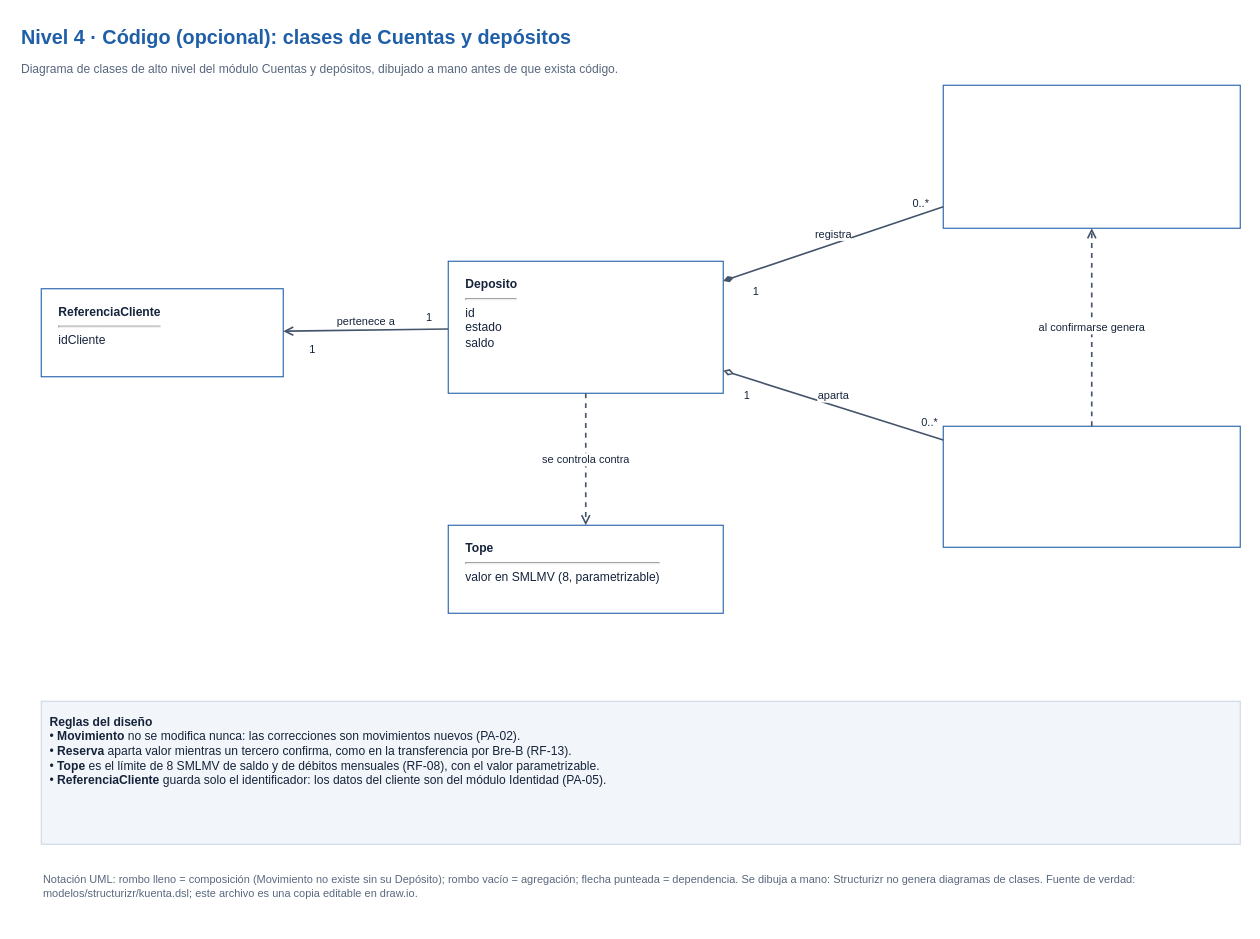
The diagram is 1260 pixels wide and 939 high, and some of its shapes have lost their labels. The shapes that lost their labels are listed below. From the top down, each one's centre as x and y in pixels, then its label:
point 1091,156: Movimiento id tipo (débito o crédito) valor fecha
point 1091,486: Reserva id valor estado (activa, confirmada o liberada)
